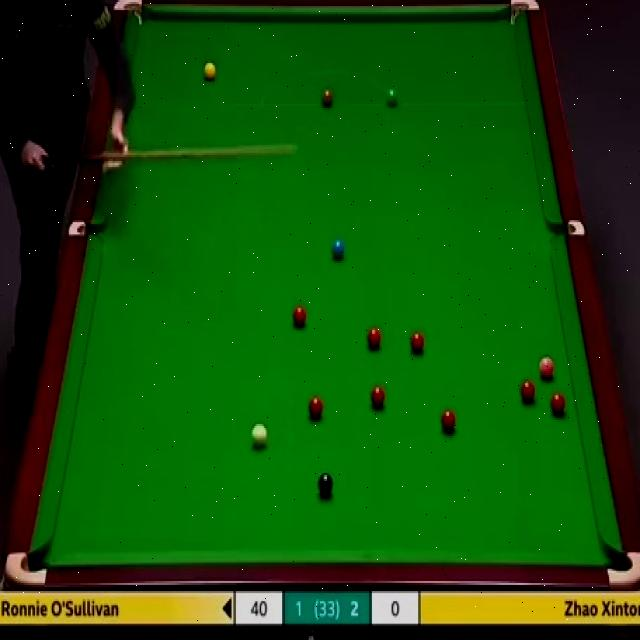black-ball: (318, 472, 334, 497)
blue-ball: (332, 239, 344, 262)
brown-ball: (321, 90, 334, 108)
green-ball: (386, 88, 398, 108)
pink-ball: (539, 356, 556, 382)
red-ball: (549, 391, 567, 416), (439, 409, 457, 434), (410, 329, 426, 354), (366, 327, 381, 351), (371, 386, 386, 410), (307, 396, 324, 417), (520, 381, 536, 403), (293, 304, 307, 326)
white-ball: (250, 422, 268, 451)
yellow-ball: (203, 63, 218, 84)
